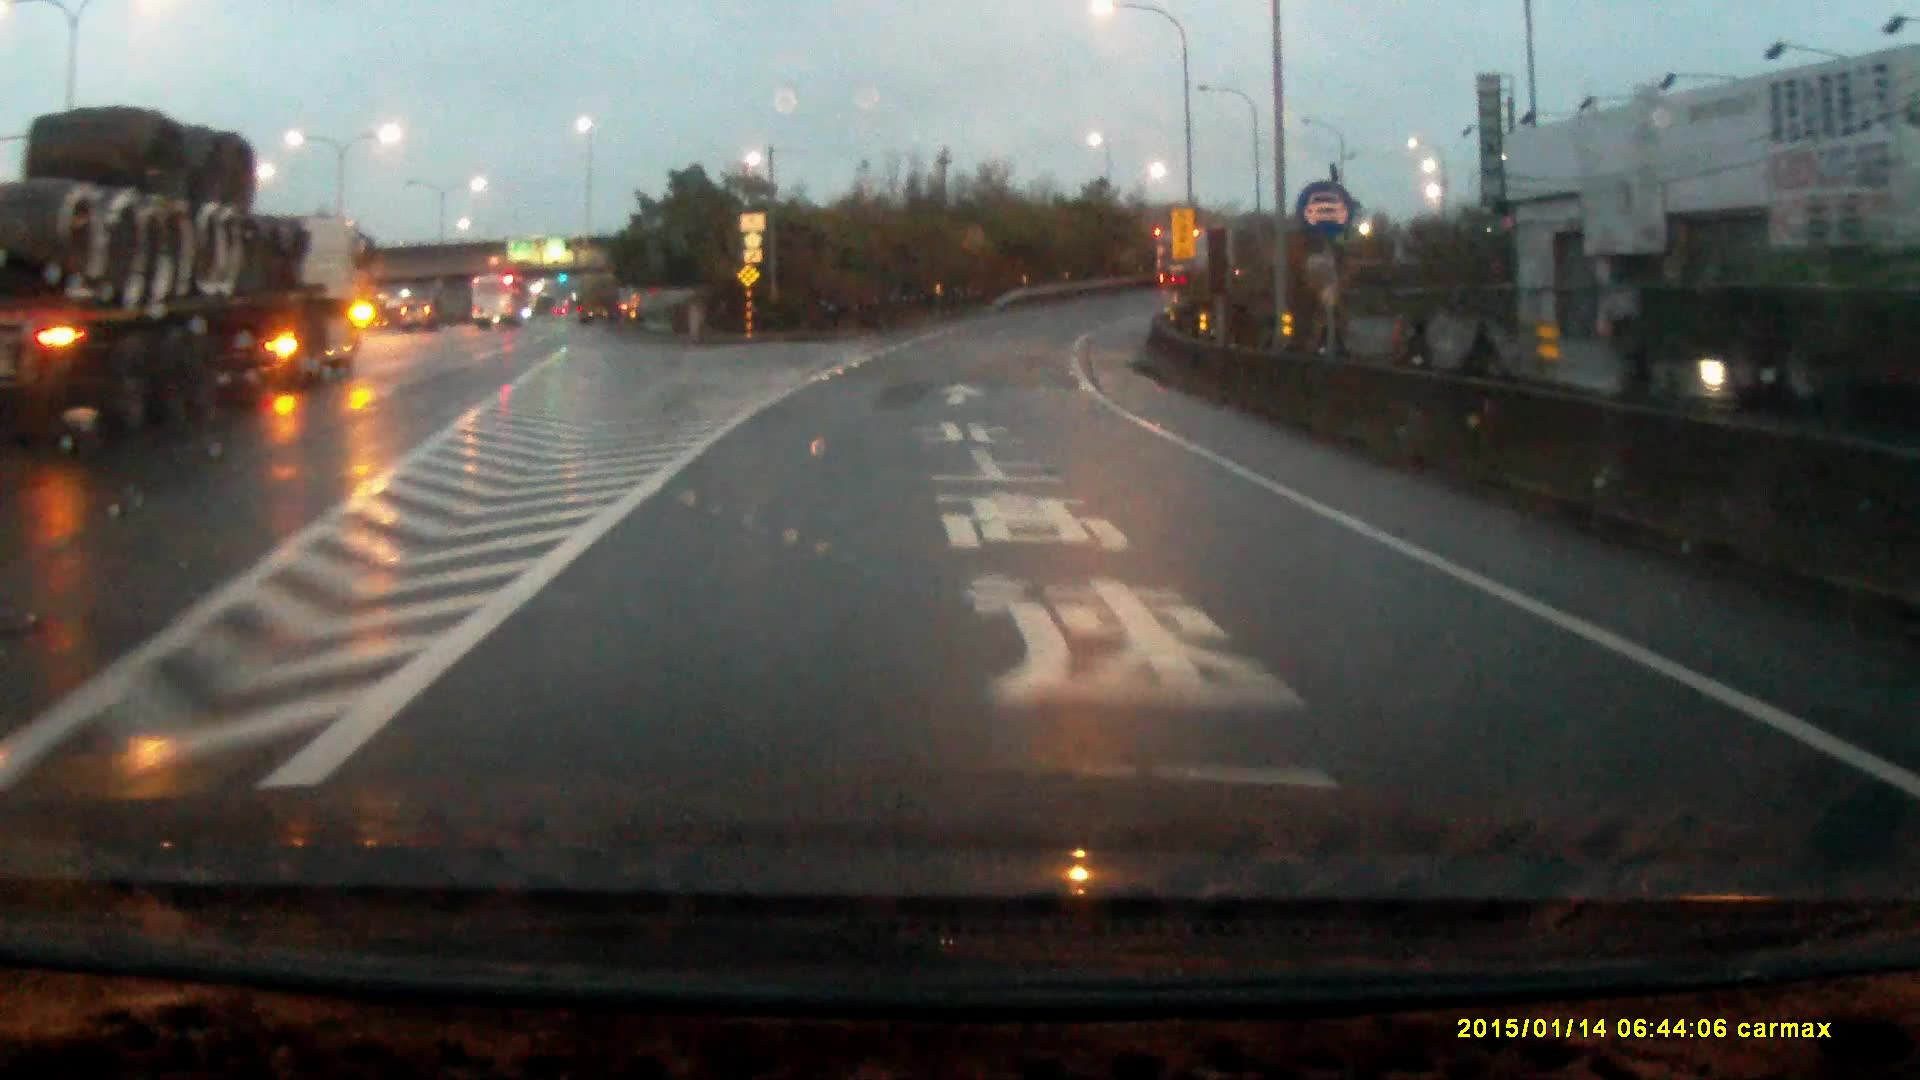vehicle: (1, 109, 369, 440), (1153, 223, 1245, 286), (471, 273, 531, 330), (400, 295, 438, 330)
